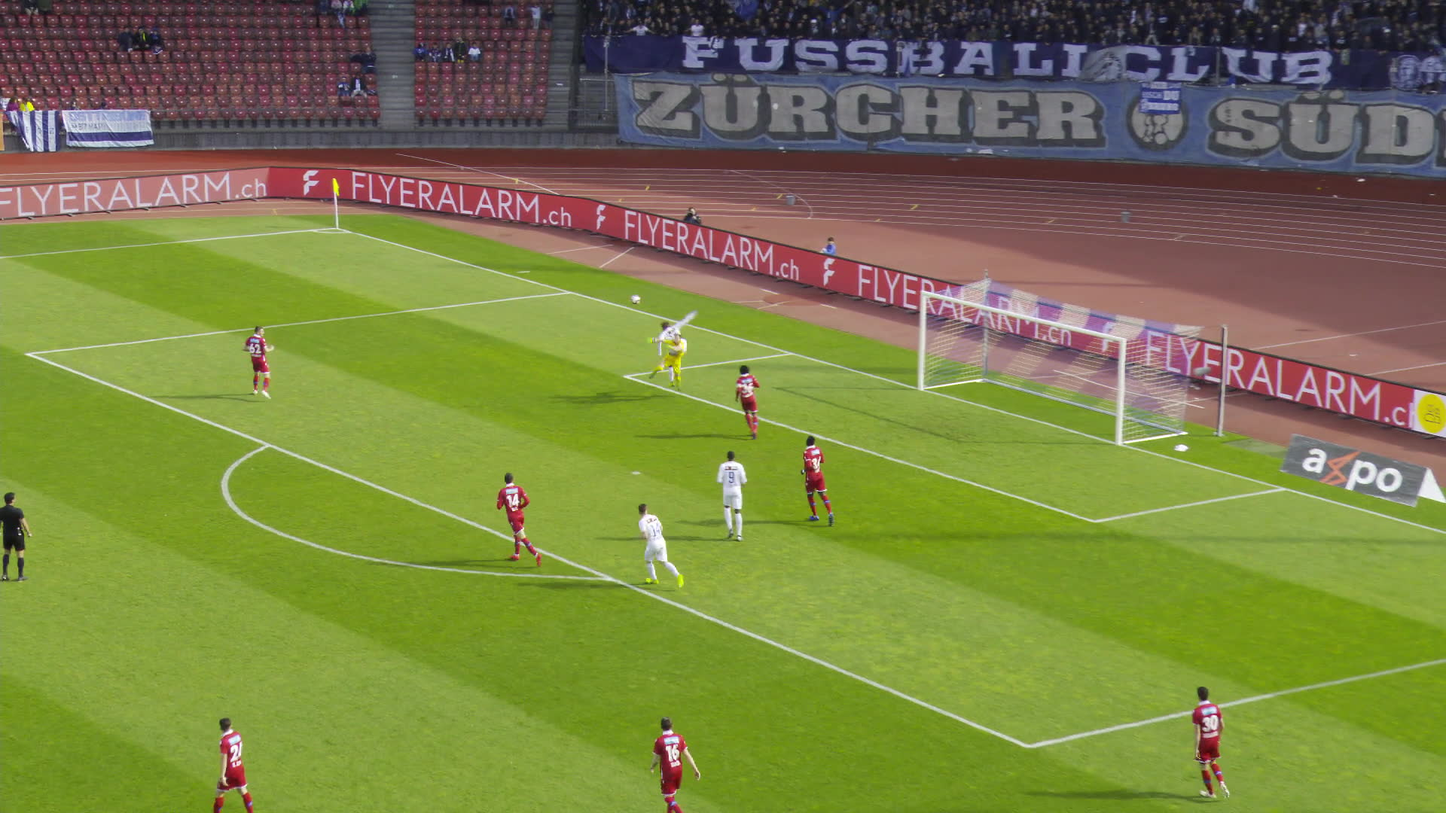ball: (633, 296, 644, 306)
player: (648, 718, 700, 811), (1189, 687, 1228, 802), (635, 502, 680, 589), (496, 473, 538, 565), (212, 714, 250, 812), (798, 437, 834, 525), (713, 452, 744, 541), (654, 313, 688, 382), (243, 327, 275, 400), (731, 367, 760, 440), (654, 333, 683, 385)
referee: (1, 490, 30, 581)
